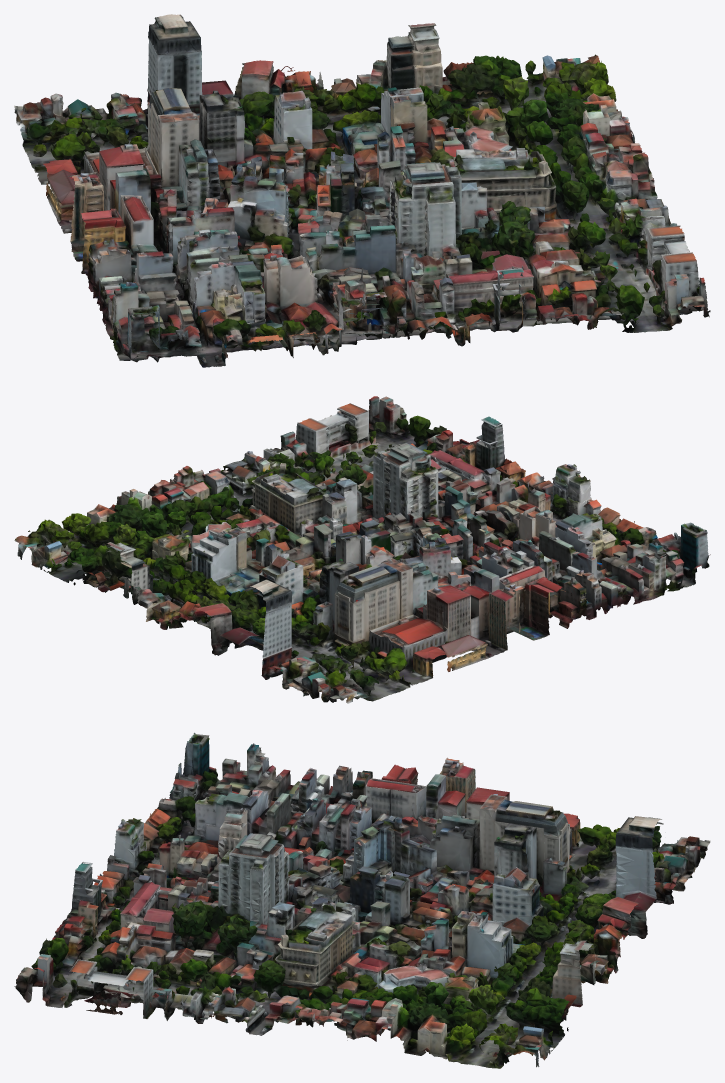
The model's file is hahoi_iotlink.glb.
The picture shows the model from 3 angles, top to bottom: view 1: azimuth 30°, elevation 25°; view 2: azimuth 150°, elevation 25°; view 3: azimuth 270°, elevation 25°; orthographic projection. The views are drawn at different scales.
Bounding box in the file's own units: 349 × 52 × 351.
1 material, 1 textured.
